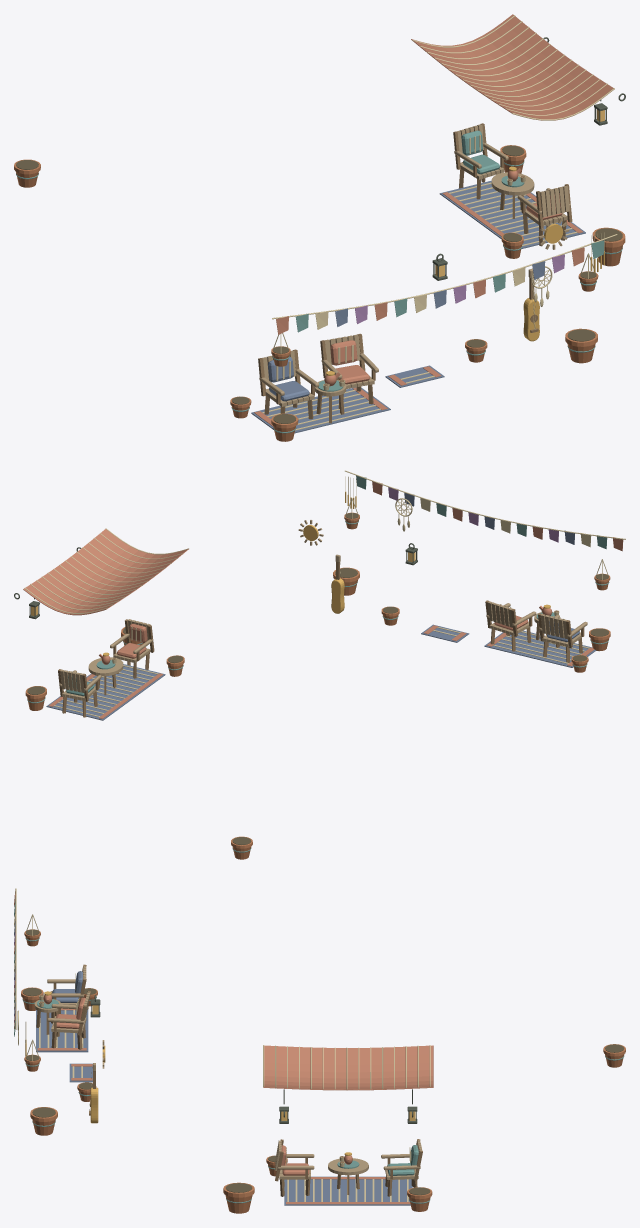
Rendered from SM_HippieCoupleHouse_Props.fbx.
3 views of the same model, one above another, from view 1: azimuth 30°, elevation 25°; view 2: azimuth 150°, elevation 25°; view 3: azimuth 270°, elevation 25° (orthographic). The views are drawn at different scales.
Parts seen in each view (by area): view 1: EXPORT_Sagging linen canopy, EXPORT_Garden kilim, EXPORT_Porch faded runner, EXPORT_Porch bunting cord, EXPORT_Acoustic guitar body, EXPORT_Garden tea table top; view 2: EXPORT_Sagging linen canopy, EXPORT_Garden kilim, EXPORT_Porch faded runner; view 3: EXPORT_Sagging linen canopy, EXPORT_Garden kilim, EXPORT_Porch faded runner.
Part boxes in pixels (x1,y1,x2,y2): EXPORT_Sagging linen canopy: [411, 14, 614, 120]; EXPORT_Garden kilim: [439, 180, 585, 248]; EXPORT_Porch faded runner: [251, 387, 390, 433]; EXPORT_Porch bunting cord: [272, 234, 617, 319]; EXPORT_Acoustic guitar body: [523, 298, 539, 341]; EXPORT_Garden tea table top: [491, 172, 534, 195]; EXPORT_Sagging linen canopy: [23, 529, 188, 615]; EXPORT_Garden kilim: [46, 664, 165, 720]; EXPORT_Porch faded runner: [484, 630, 596, 667]; EXPORT_Sagging linen canopy: [263, 1045, 433, 1090]; EXPORT_Garden kilim: [284, 1176, 412, 1205]; EXPORT_Porch faded runner: [36, 1010, 88, 1052].
Bounding box in the file's own units: 1043 × 1287 × 306.
